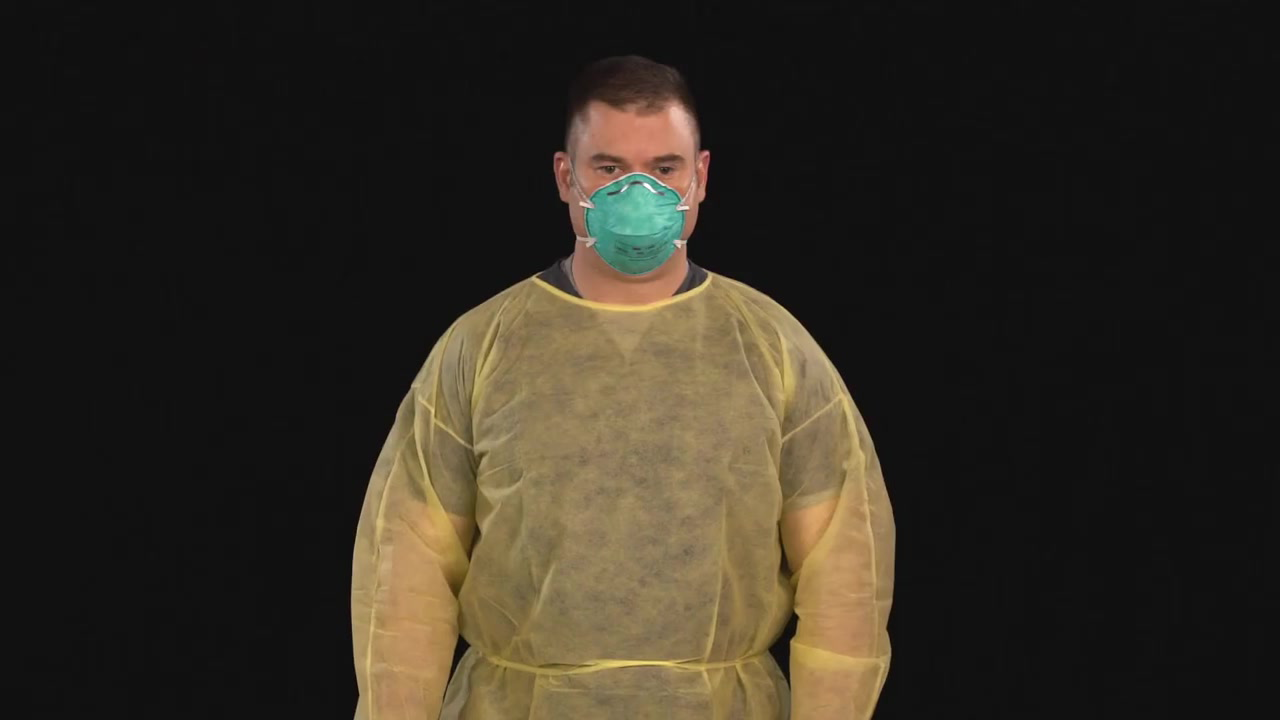Coverall: (387, 270, 870, 720)
with_mask: (581, 162, 683, 270)
